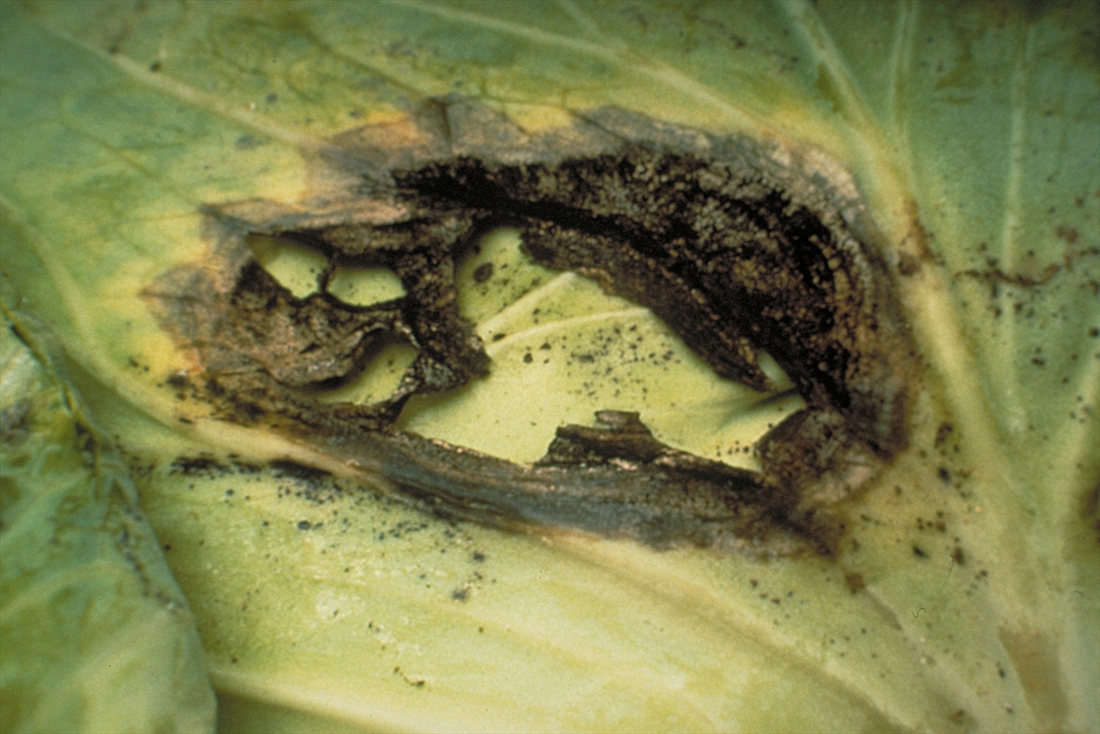Cabbage_AlteriaLeafSpot: (61, 15, 980, 656)
